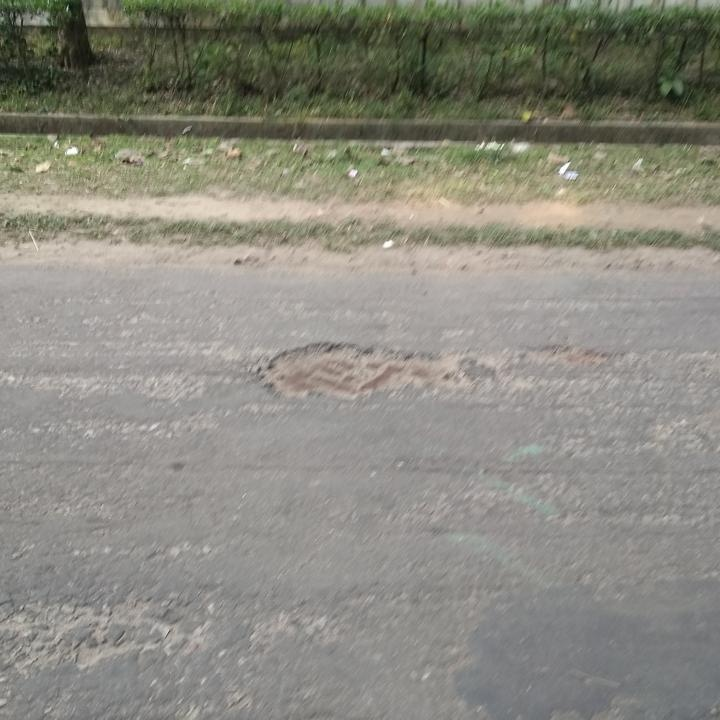pothole: (257, 337, 478, 408)
